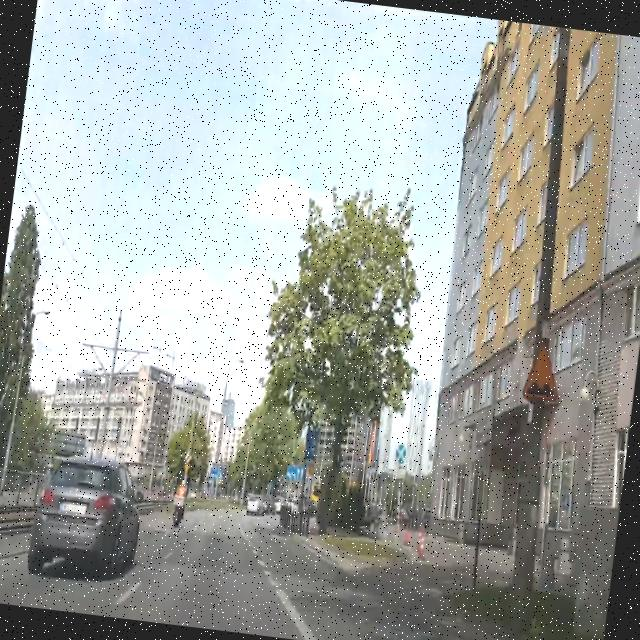Ustap pierwszenstwa: (182, 462, 190, 474)
